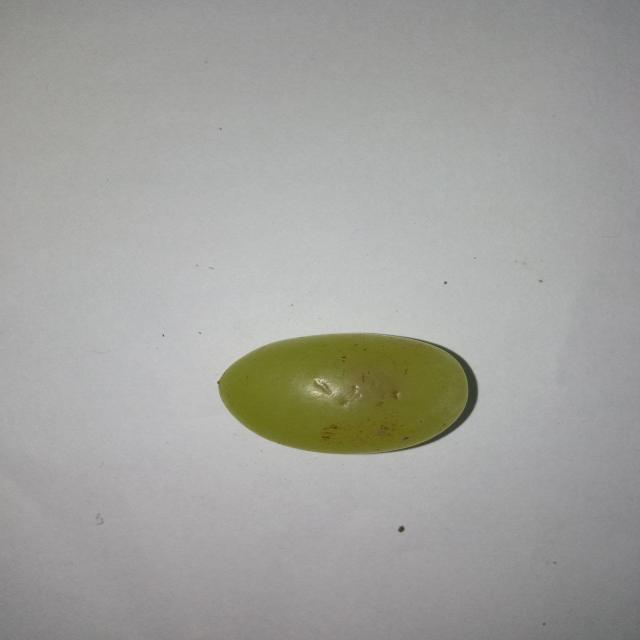fresh_grape: (216, 332, 471, 454)
